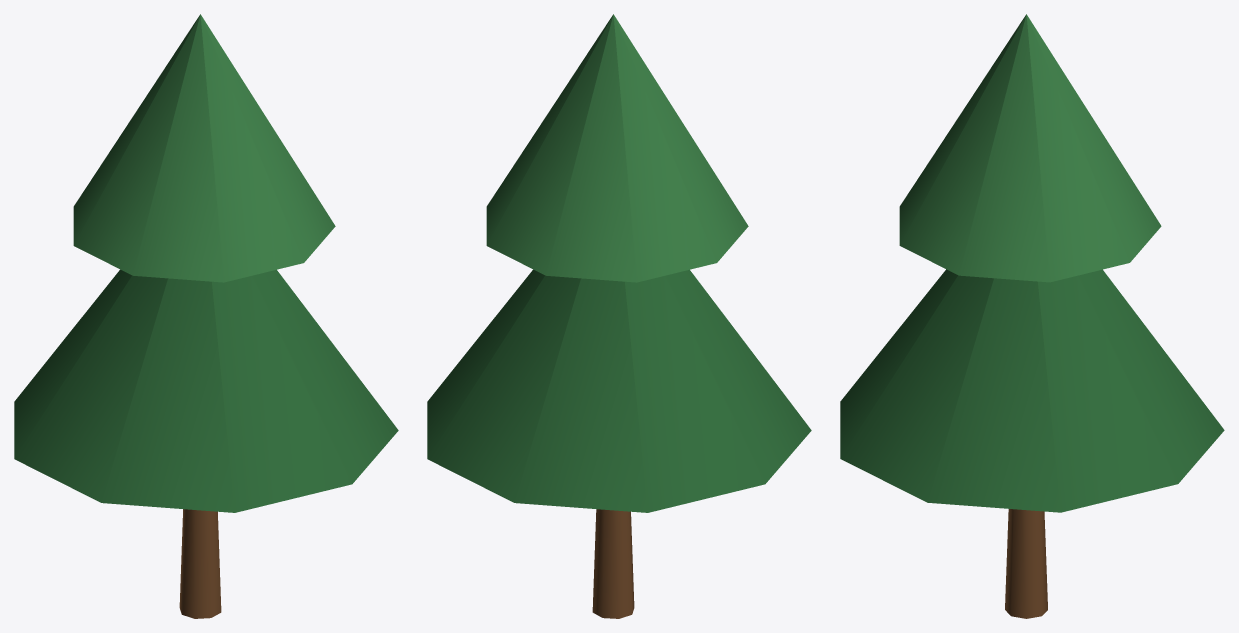
The picture shows the model from 3 angles, left to right: view 1: azimuth 30°, elevation 25°; view 2: azimuth 150°, elevation 25°; view 3: azimuth 270°, elevation 25°; orthographic projection.
Visible parts, largest first — view 1: crown-low, crown-top, trunk; view 2: crown-low, crown-top, trunk; view 3: crown-low, crown-top, trunk.
Boxes of the visible parts, x1,y1,x2,y2 form: crown-low: (14,269,398,512); crown-top: (73,14,335,282); trunk: (179,509,221,618); crown-low: (427,269,811,512); crown-top: (486,14,748,282); trunk: (592,509,634,618); crown-low: (840,269,1224,512); crown-top: (899,14,1161,282); trunk: (1005,509,1047,618).
Size of the model in its own units: 297 by 500 by 292.
